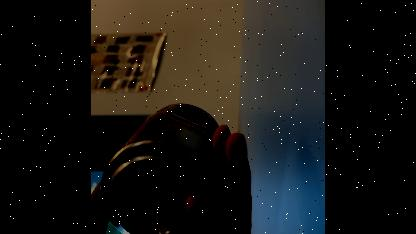Can: (100, 99, 223, 234)
